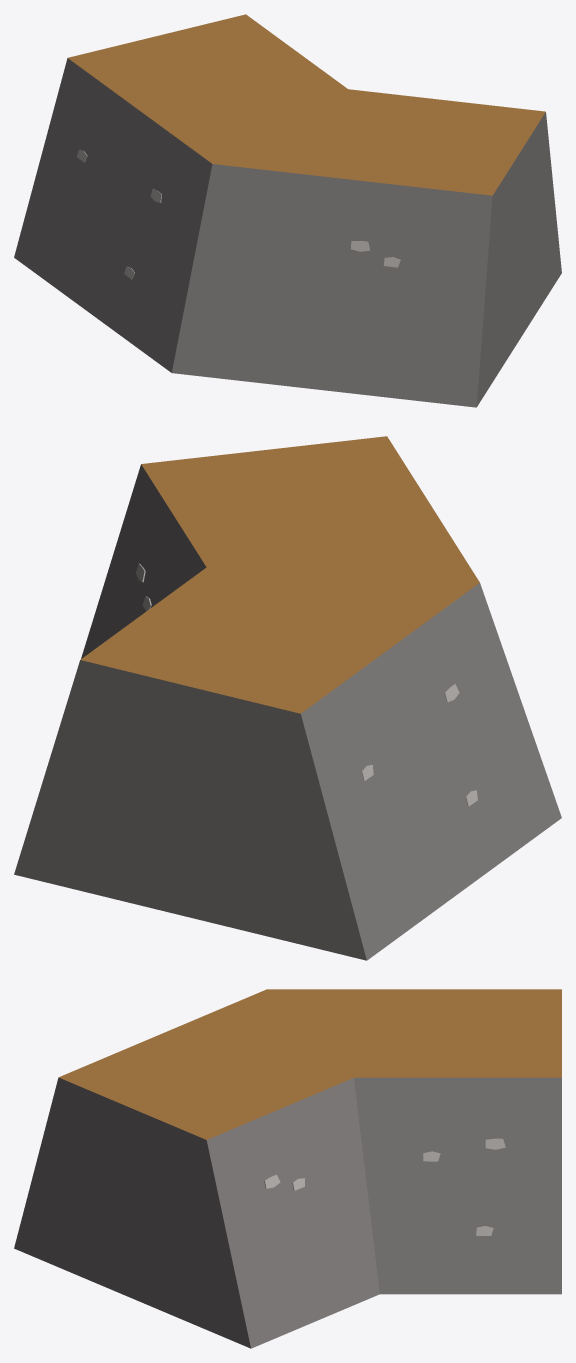
File: japan-base-japan-elbow-medium.glb
3 views of the same model, one above another, from view 1: azimuth 30°, elevation 25°; view 2: azimuth 150°, elevation 25°; view 3: azimuth 270°, elevation 25° (orthographic). The views are drawn at different scales.
Parts seen in each view (by area): view 1: base-japan-elbow_medium; view 2: base-japan-elbow_medium; view 3: base-japan-elbow_medium.
Boxes of the visible parts, x1,y1,x2,y2 form: base-japan-elbow_medium: (14, 14, 561, 407); base-japan-elbow_medium: (14, 436, 561, 960); base-japan-elbow_medium: (14, 989, 561, 1348).
Size of the model in its own units: 22.15 by 10 by 26.15.
